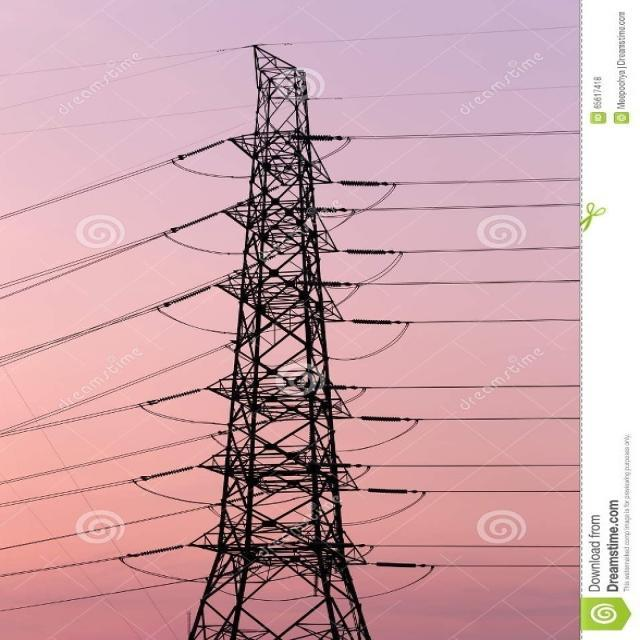non-critical vegetation: (164, 34, 398, 636)
